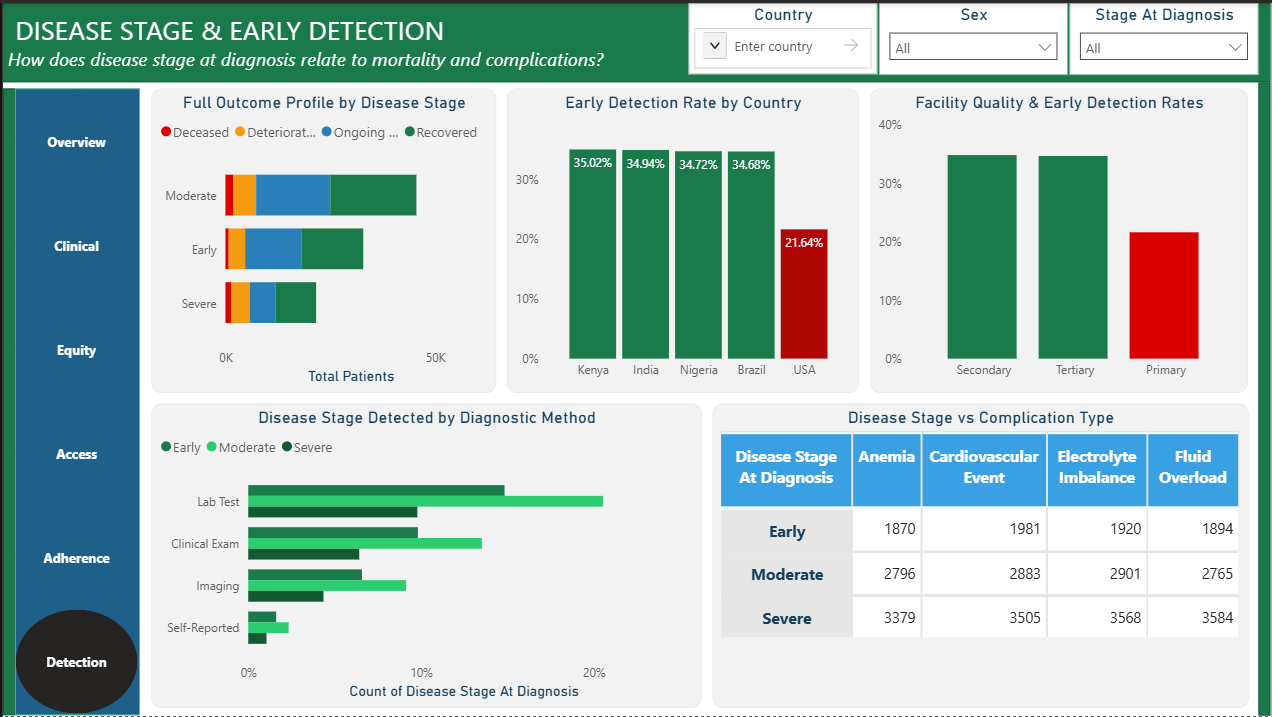

The page's visual inventory and layout, read from the dashboard file:
{"tool":"powerbi","page":{"name":"Detection","canvas":[1280,720],"ordinal":5},"visuals":[{"type":"shape","box":[0,0,1279.4,80],"z":0},{"type":"textbox","box":[0.6,3,1279.4,74],"z":1000},{"type":"textSlicer","title":"Country","fields":{"Values":["ckd_clean.country"]},"box":[691.9,0,190.8,72],"z":2000},{"type":"slicer","title":"Sex","fields":{"Values":["ckd_clean.sex"]},"box":[884.9,0,190.8,72.7],"z":3000},{"type":"slicer","title":"Stage At Diagnosis","fields":{"Values":["ckd_clean.disease_stage_at_diagnosis"]},"box":[1076.9,0,190.8,72.7],"z":4000},{"type":"shape","box":[1267.4,81,12,639],"z":5000},{"type":"shape","box":[0,86.3,12.1,632.9],"z":6000},{"type":"pageNavigator","box":[12.1,86.3,125.7,632.9],"z":7000},{"type":"barChart","title":"Full Outcome Profile by Disease Stage","fields":{"Y":["Measures (2).Total Patients"],"Category":["ckd_clean.disease_stage_at_diagnosis"],"Series":["ckd_clean.Primary Outcome"]},"box":[149.9,86,348,307],"z":9000},{"type":"clusteredColumnChart","title":"Early Detection Rate by Country","fields":{"Category":["ckd_clean.country"],"Y":["Measures (2).Early Detection %"]},"box":[509,86,355,307],"z":10000},{"type":"clusteredBarChart","title":"Disease Stage Detected by Diagnostic Method","fields":{"Category":["ckd_clean.diagnostic_method"],"Y":["CountNonNull(ckd_clean.disease_stage_at_diagnosis)"],"Series":["ckd_clean.disease_stage_at_diagnosis"]},"box":[149.9,404,555,307.4],"z":11000},{"type":"clusteredColumnChart","title":"Facility Quality & Early Detection Rates","fields":{"Category":["ckd_clean.facility_tier"],"Y":["Measures (2).Early Detection %"]},"box":[875.2,86.3,381.6,307],"z":12000},{"type":"pivotTable","title":"Disease Stage vs Complication Type","fields":{"Rows":["ckd_clean.disease_stage_at_diagnosis"],"Columns":["ckd_clean.complication_type"],"Values":["Measures (2).Total Patients"]},"box":[716,404.3,541,307.4],"z":13000}]}

Visuals, with their boxes in screenshot pixels (x1, y1, x2, y2), scaled from the page's 1280x720 canvas onto the 1272x717 screenshot:
shape: [0,0,1271,80]
textbox: [1,3,1271,77]
"Country" textSlicer: [688,0,877,72]
"Sex" slicer: [879,0,1069,72]
"Stage At Diagnosis" slicer: [1070,0,1260,72]
shape: [1259,81,1271,716]
shape: [0,86,12,716]
pageNavigator: [12,86,137,716]
"Full Outcome Profile by Disease Stage" barChart: [149,86,495,391]
"Early Detection Rate by Country" clusteredColumnChart: [506,86,859,391]
"Disease Stage Detected by Diagnostic Method" clusteredBarChart: [149,402,700,708]
"Facility Quality & Early Detection Rates" clusteredColumnChart: [870,86,1249,392]
"Disease Stage vs Complication Type" pivotTable: [712,403,1249,709]
